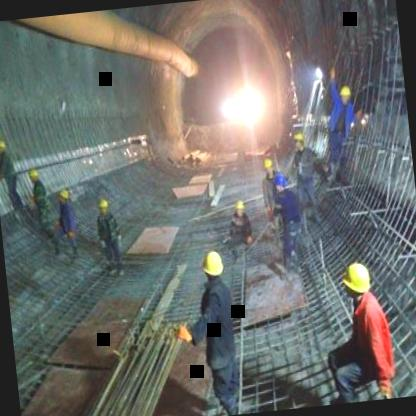helmet: (342, 258, 375, 302), (200, 246, 226, 284), (337, 82, 353, 106), (26, 164, 42, 187), (233, 194, 247, 219), (290, 130, 304, 155), (272, 173, 287, 196), (96, 196, 112, 217), (263, 154, 275, 180), (56, 186, 70, 206), (0, 134, 8, 155)
